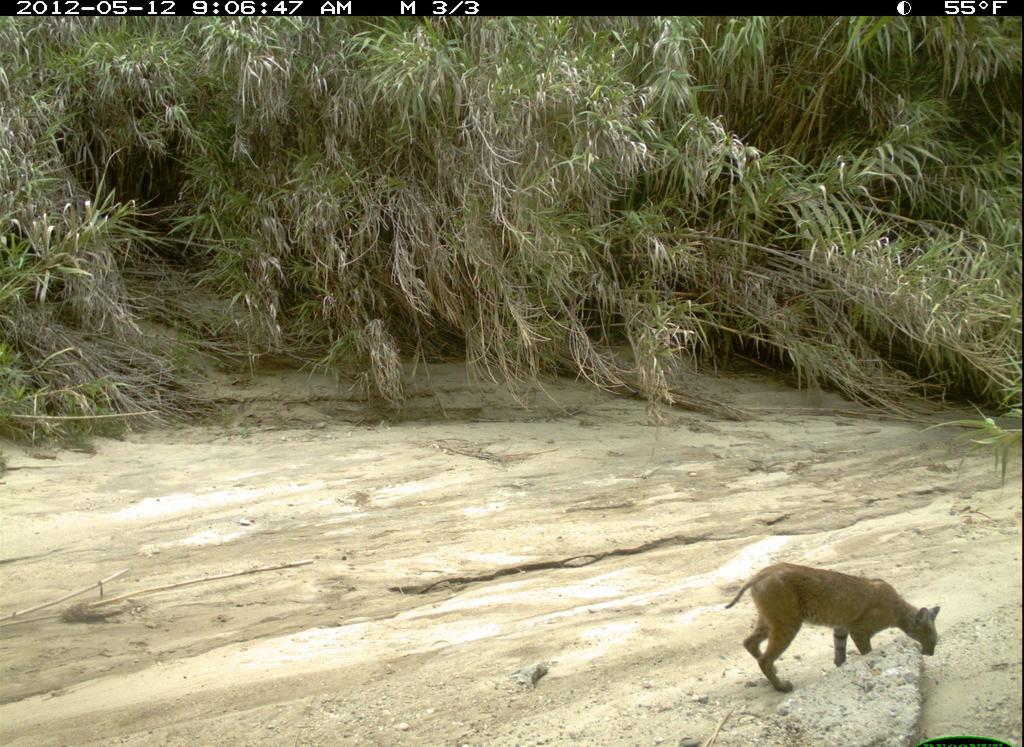bobcat: (726, 552, 948, 697)
